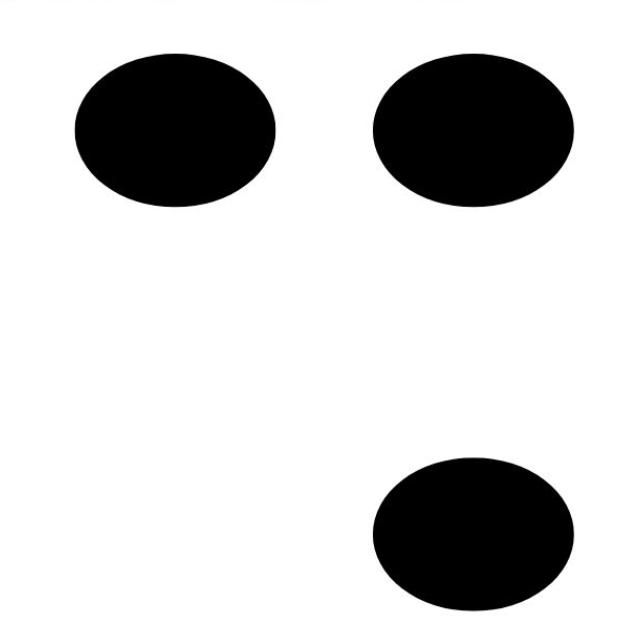mag: (72, 52, 576, 612)
